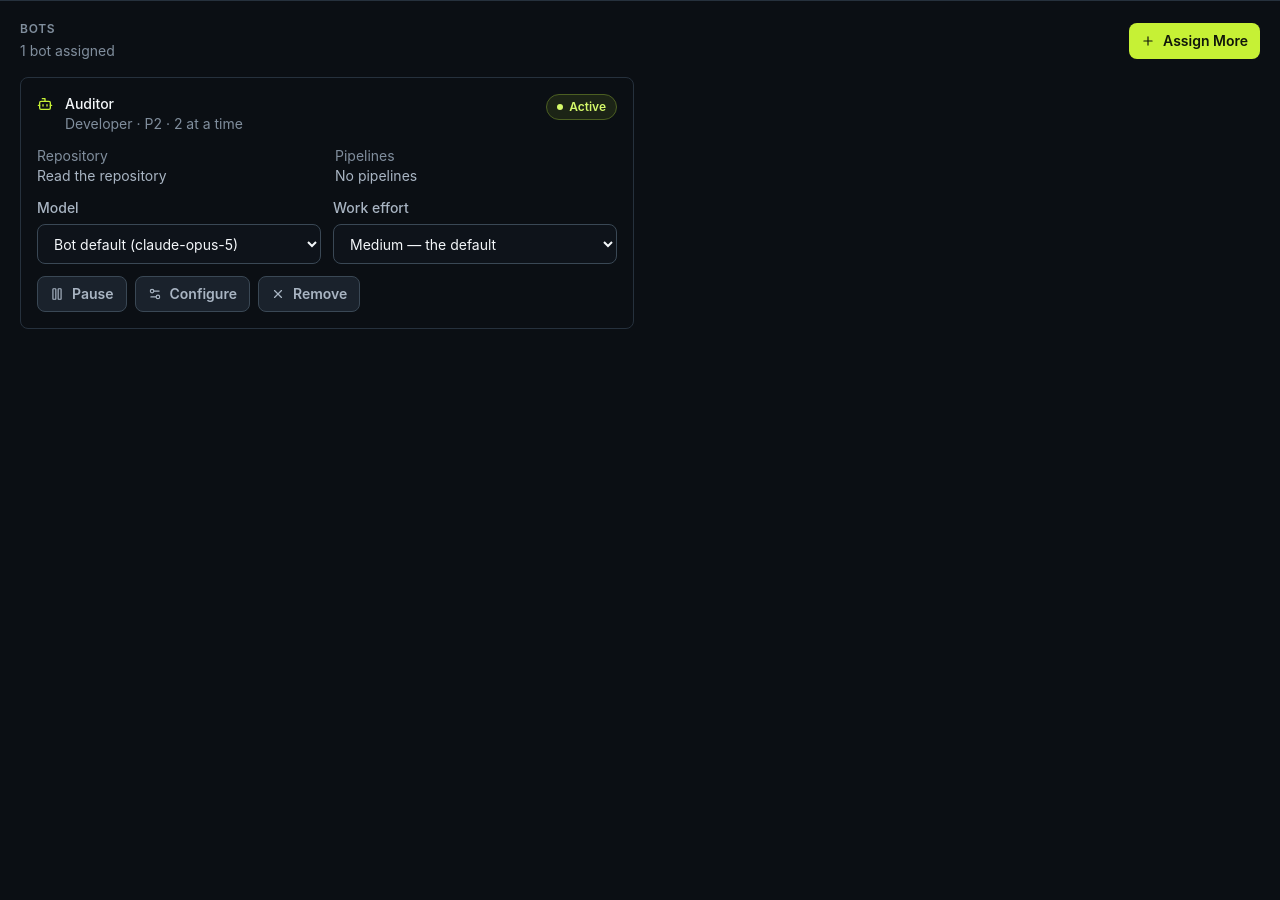
it: assigning several bots at once › does not claim success when the committed assignment reads back differently
The width and height of the screenshot is (1280, 900).
Click the button "Assign More".
click(1194, 41)  # box 1129,23 -> 1260,59
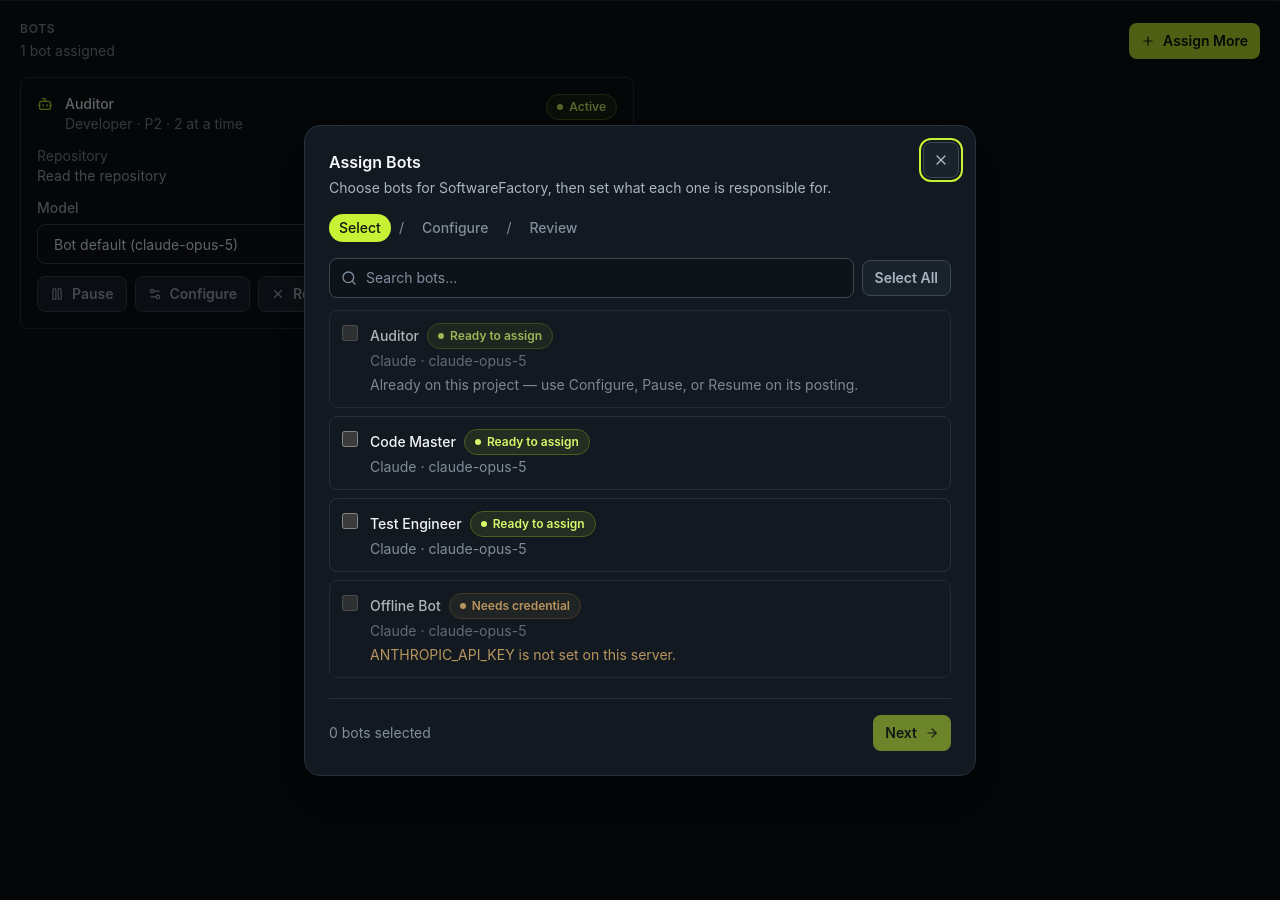
Click the checkbox named "Select Code Master".
click(350, 438)  # box 342,430 -> 358,446
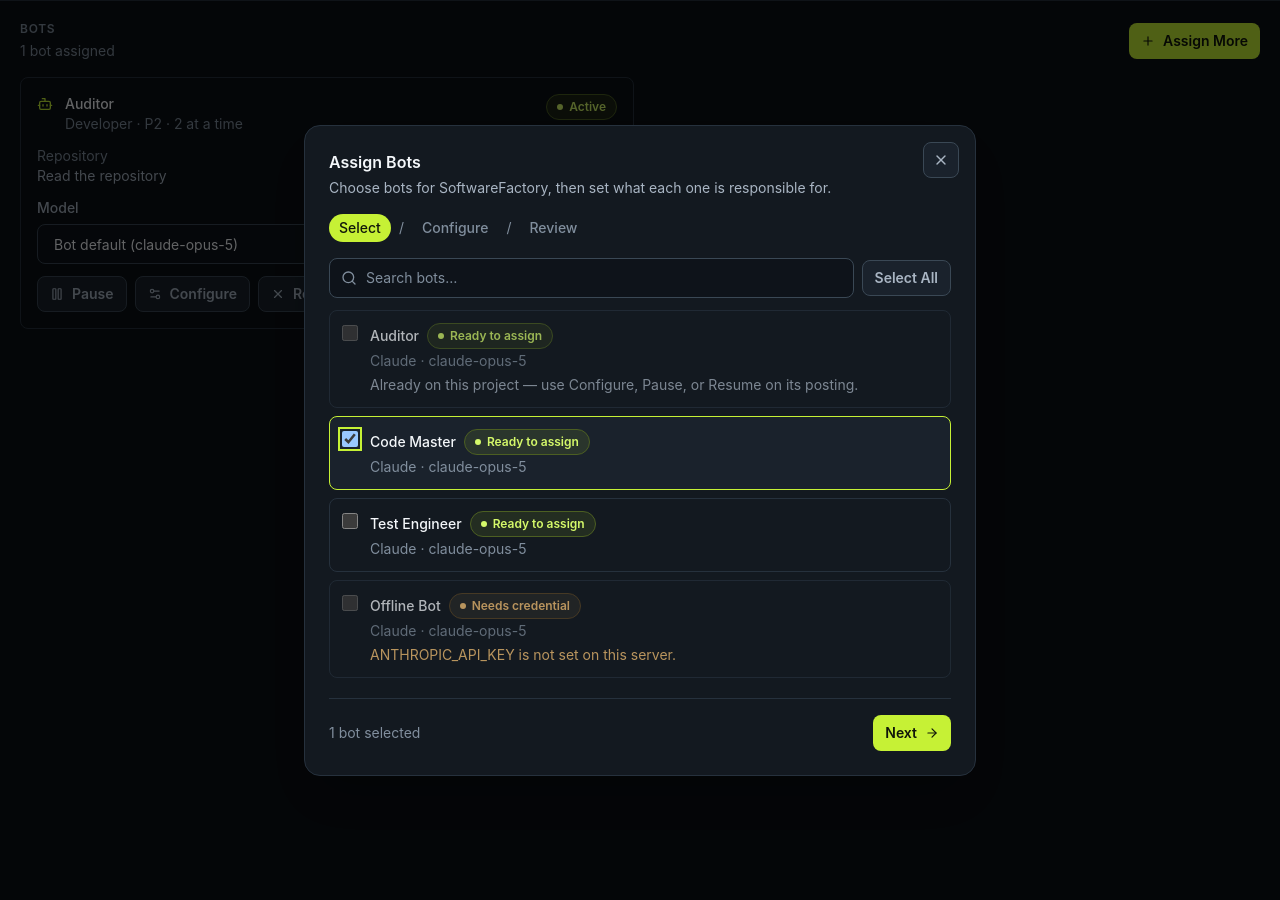
Click the button "Next".
click(912, 732)  # box 873,714 -> 951,750
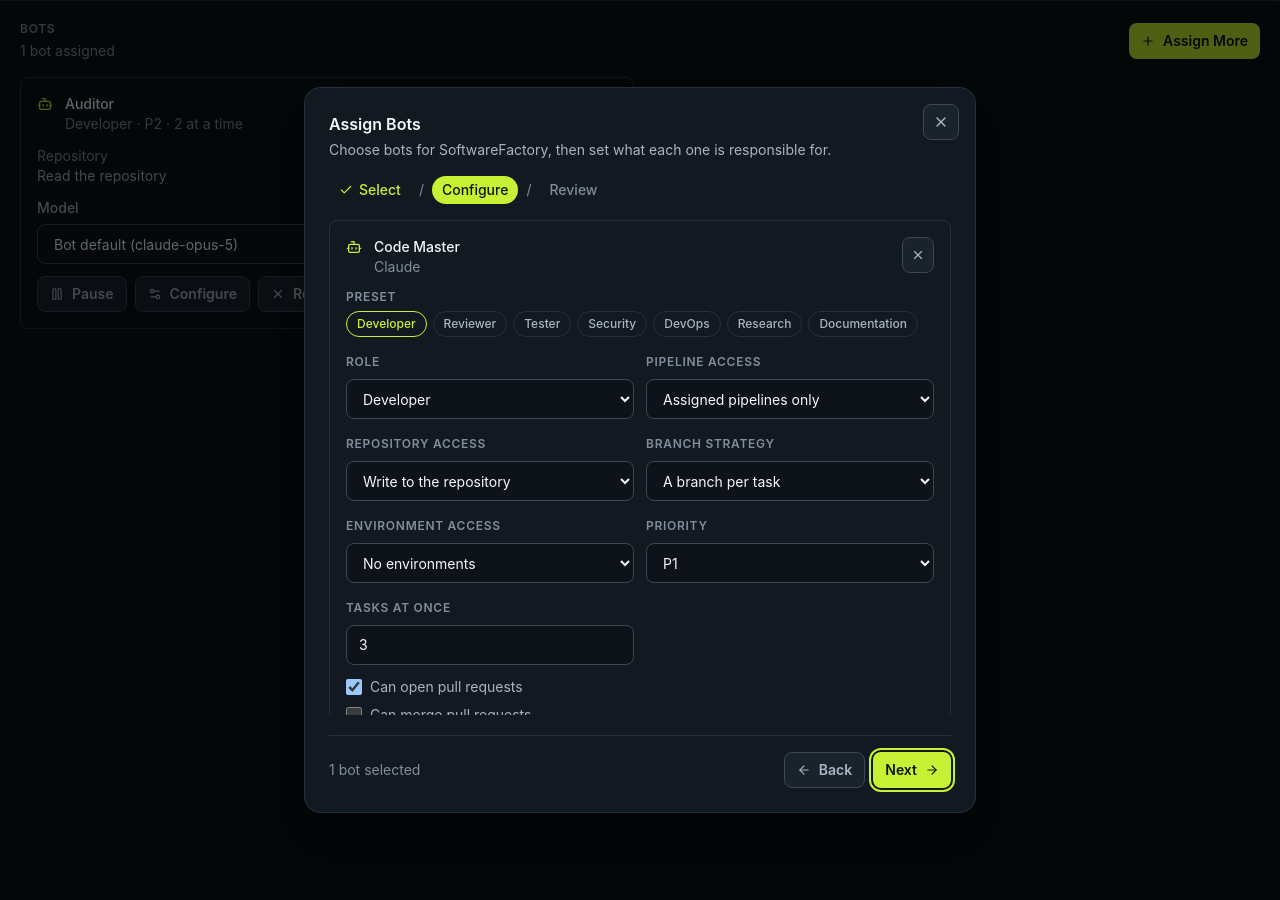
Click the button "Security".
click(612, 324)  # box 577,311 -> 647,337
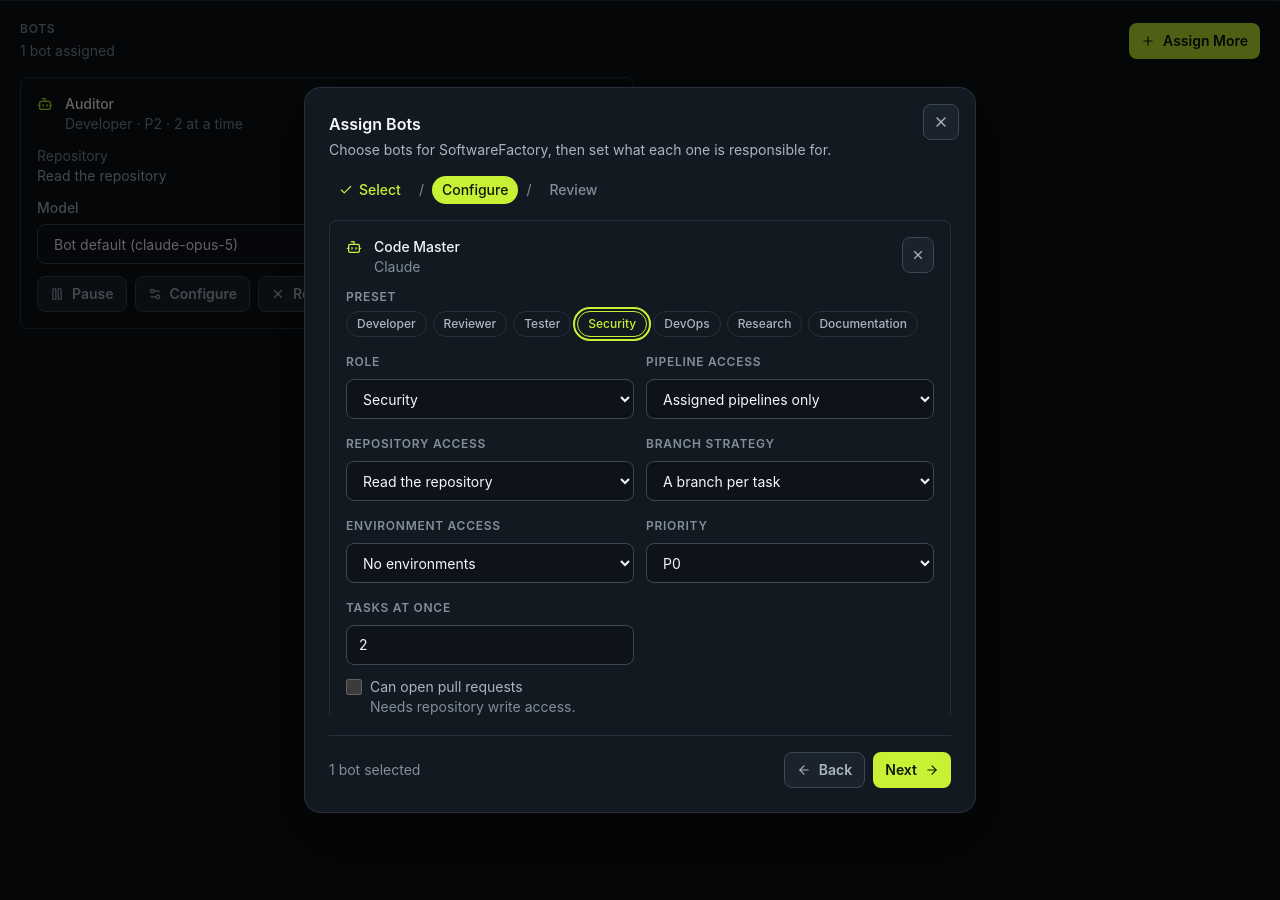
Click the button "Next".
click(912, 770)  # box 873,752 -> 951,788
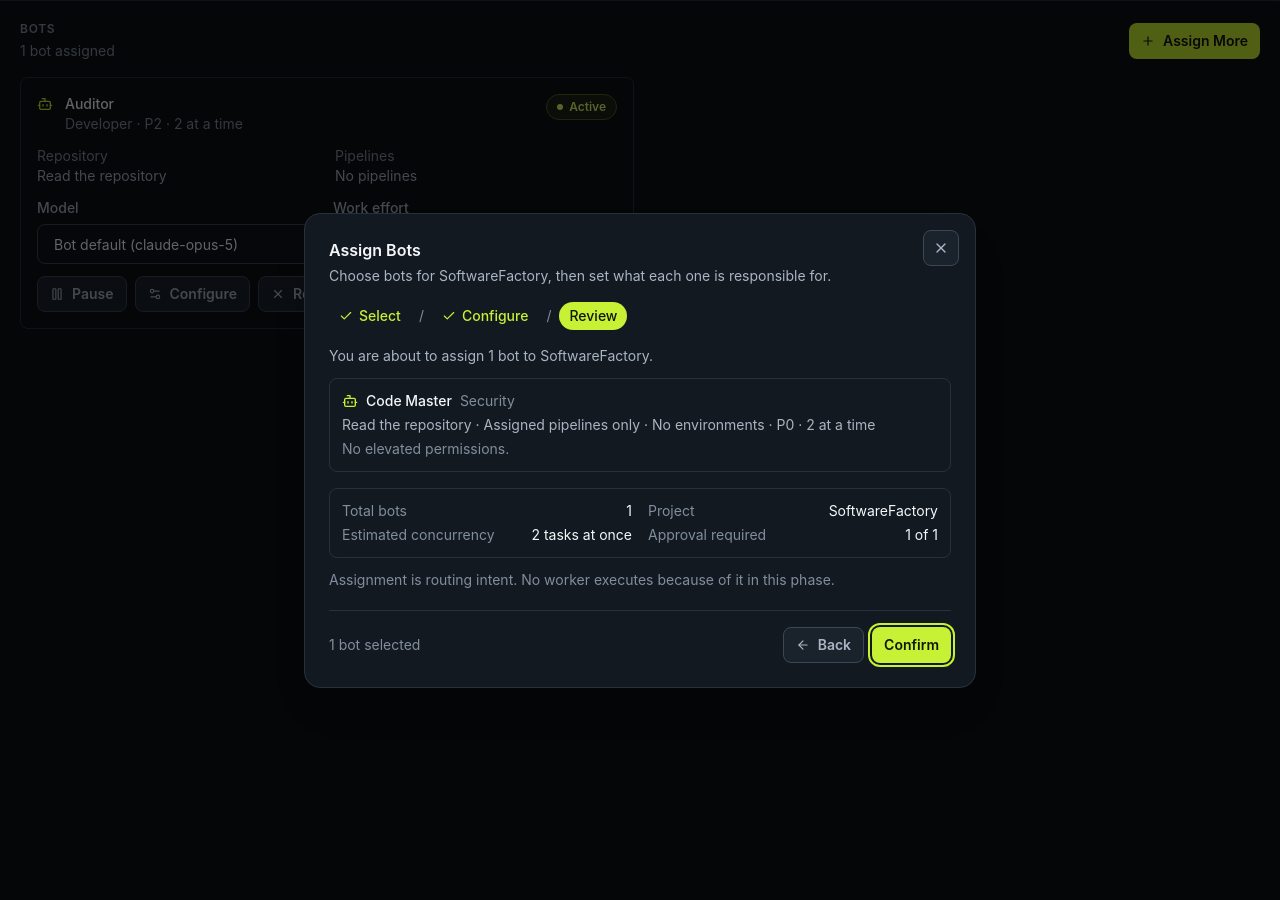
Click the button "Confirm".
click(912, 644)  # box 872,626 -> 951,662
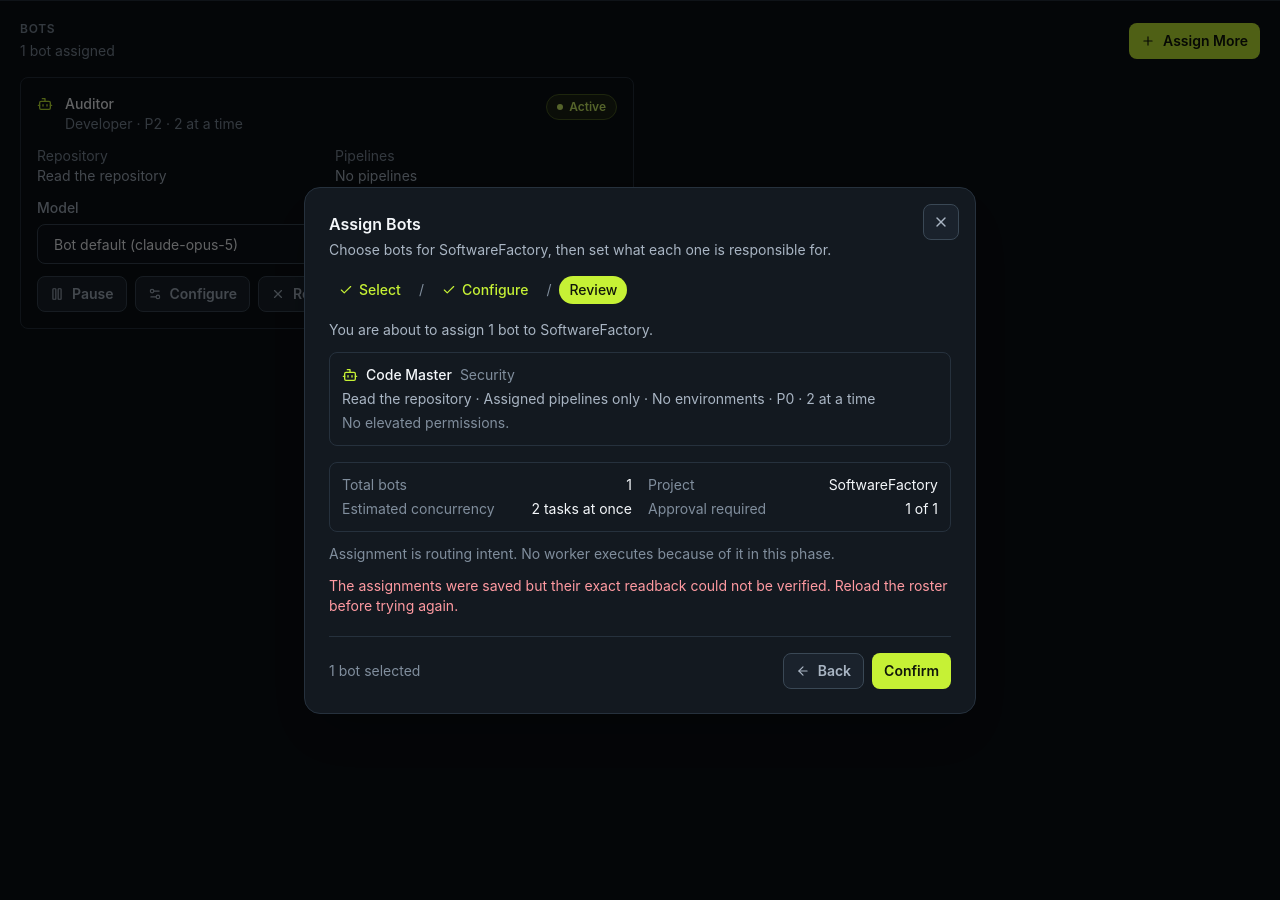
Now the dialog "Assign Bots" is shown
Now the message shows "exact readback could not be verified", box 329,576 -> 948,614
